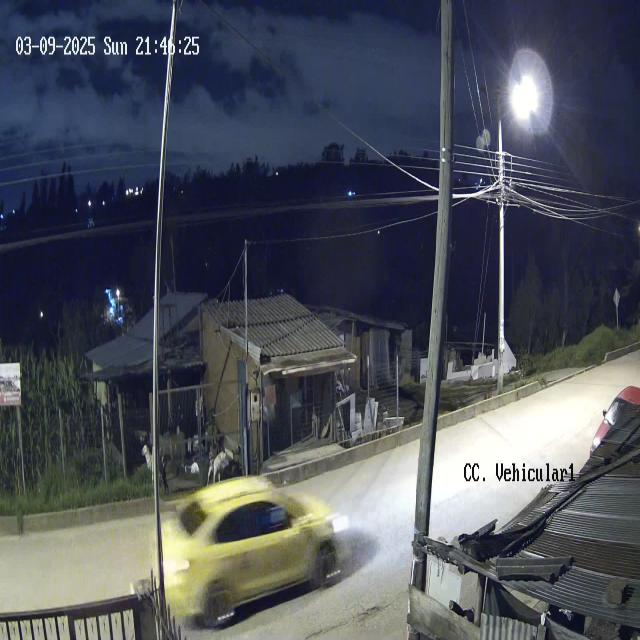SED: (157, 471, 345, 622)
